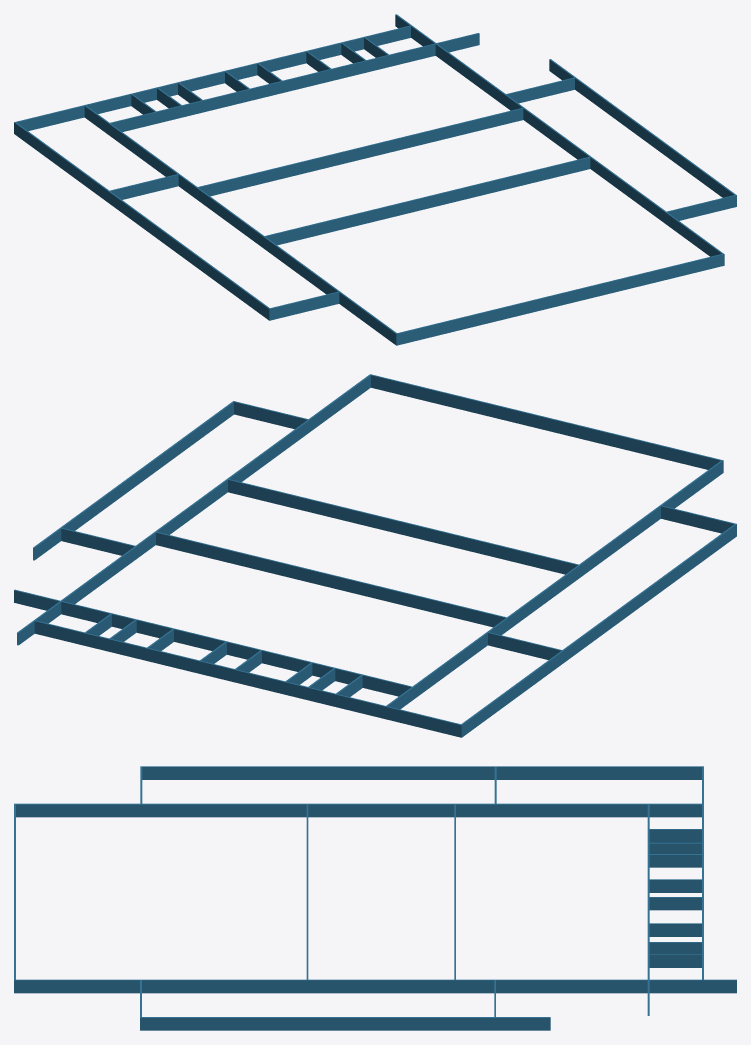
File: qiangti.fbx
3 renders of one model, top to bottom at view 1: azimuth 30°, elevation 25°; view 2: azimuth 150°, elevation 25°; view 3: azimuth 270°, elevation 25°, orthographic. The views are drawn at different scales.
Visible parts, largest first — view 1: 40cm; view 2: 40cm; view 3: 40cm, d1, d3.
Part boxes in pixels (box(x1,y1,x2,y2)): 40cm: box(14, 25, 736, 345); 40cm: box(33, 374, 736, 737); 40cm: box(14, 766, 703, 1030); d1: box(496, 1017, 550, 1030); d3: box(704, 979, 736, 993).
Bounding box in the file's own units: 12617 × 300 × 15324.
